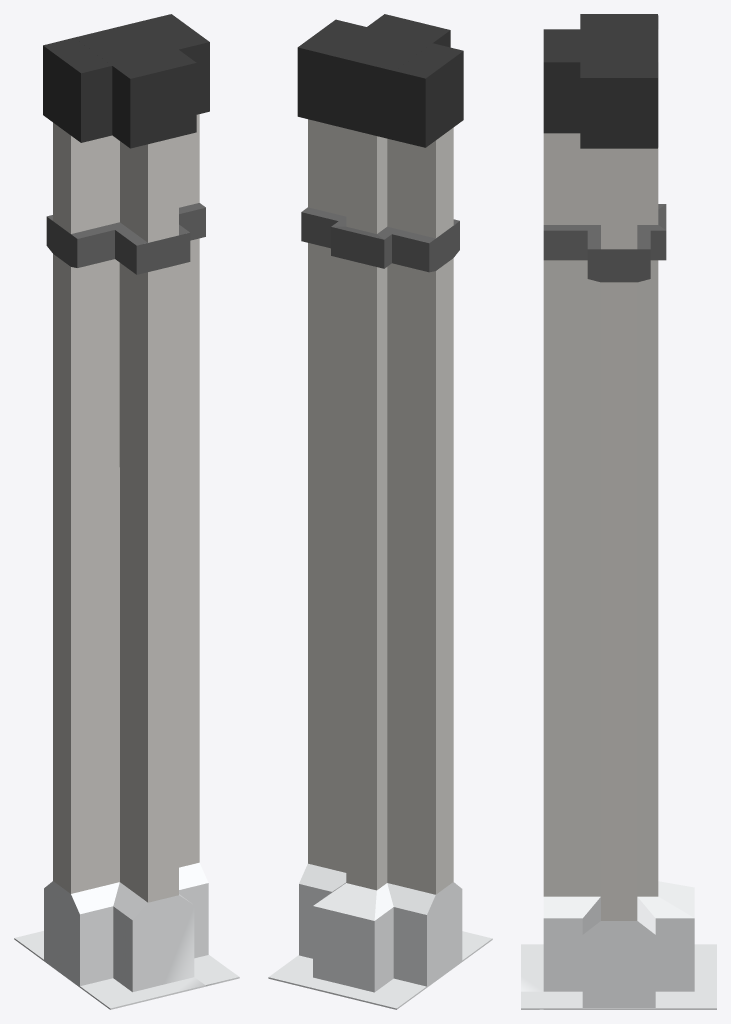
File: Wall-T.fbx
3 renders of one model, left to right at view 1: azimuth 30°, elevation 25°; view 2: azimuth 150°, elevation 25°; view 3: azimuth 270°, elevation 25°, orthographic. The views are drawn at different scales.
Visible parts, largest first — view 1: T-Wall; view 2: T-Wall; view 3: T-Wall.
Part boxes in pixels (x1,y1,x2,y2): T-Wall: (14, 14, 239, 1009); T-Wall: (268, 14, 492, 1009); T-Wall: (521, 14, 716, 1009).
Bounding box in the file's own units: 1.33 × 1.72 × 9.
